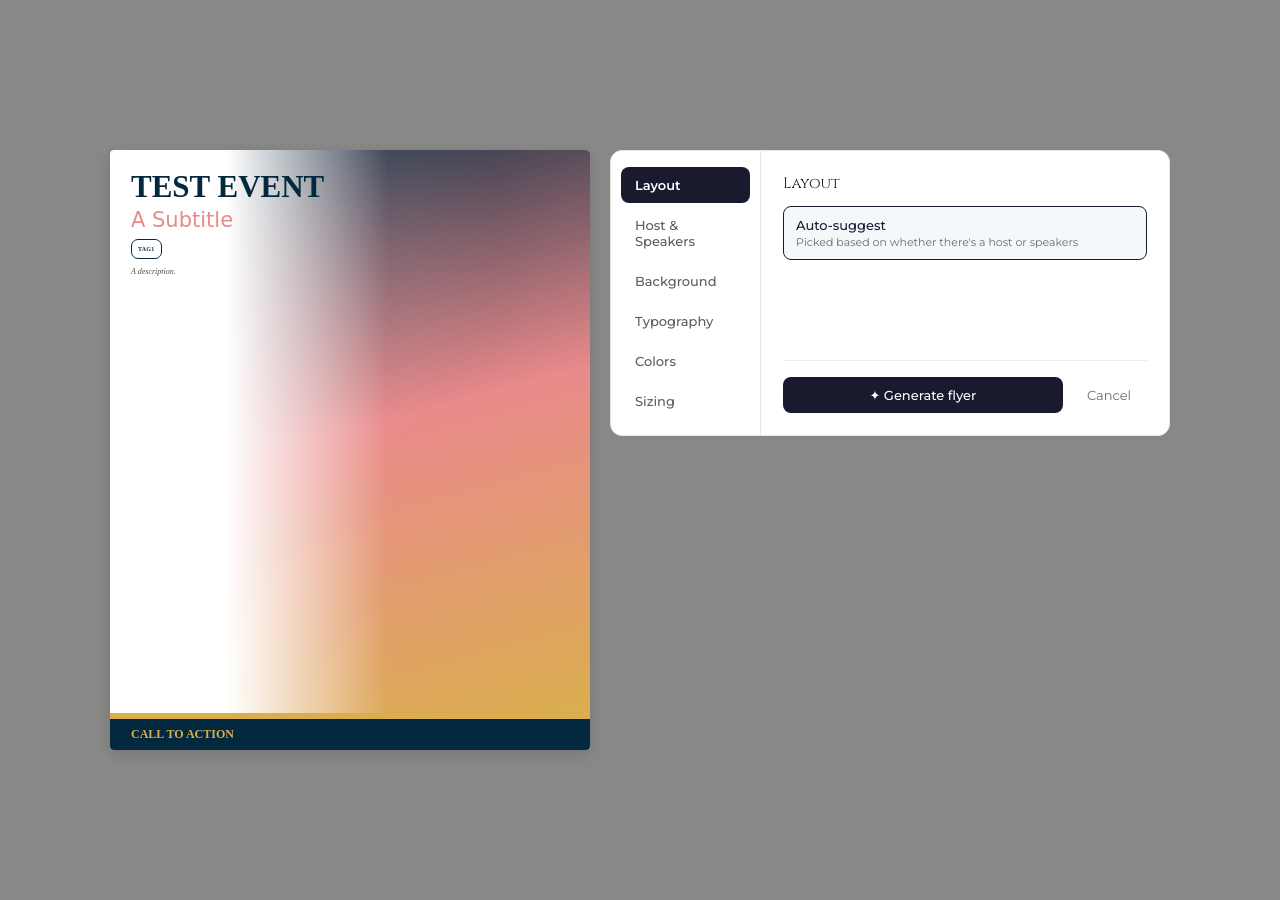
Test: shows a friendly message in Host & Speakers when the roster is empty
This screenshot has width=1280, height=900.
Click the button "Host & Speakers" at [686, 233], box top-left (621, 207), bottom-right (750, 259)
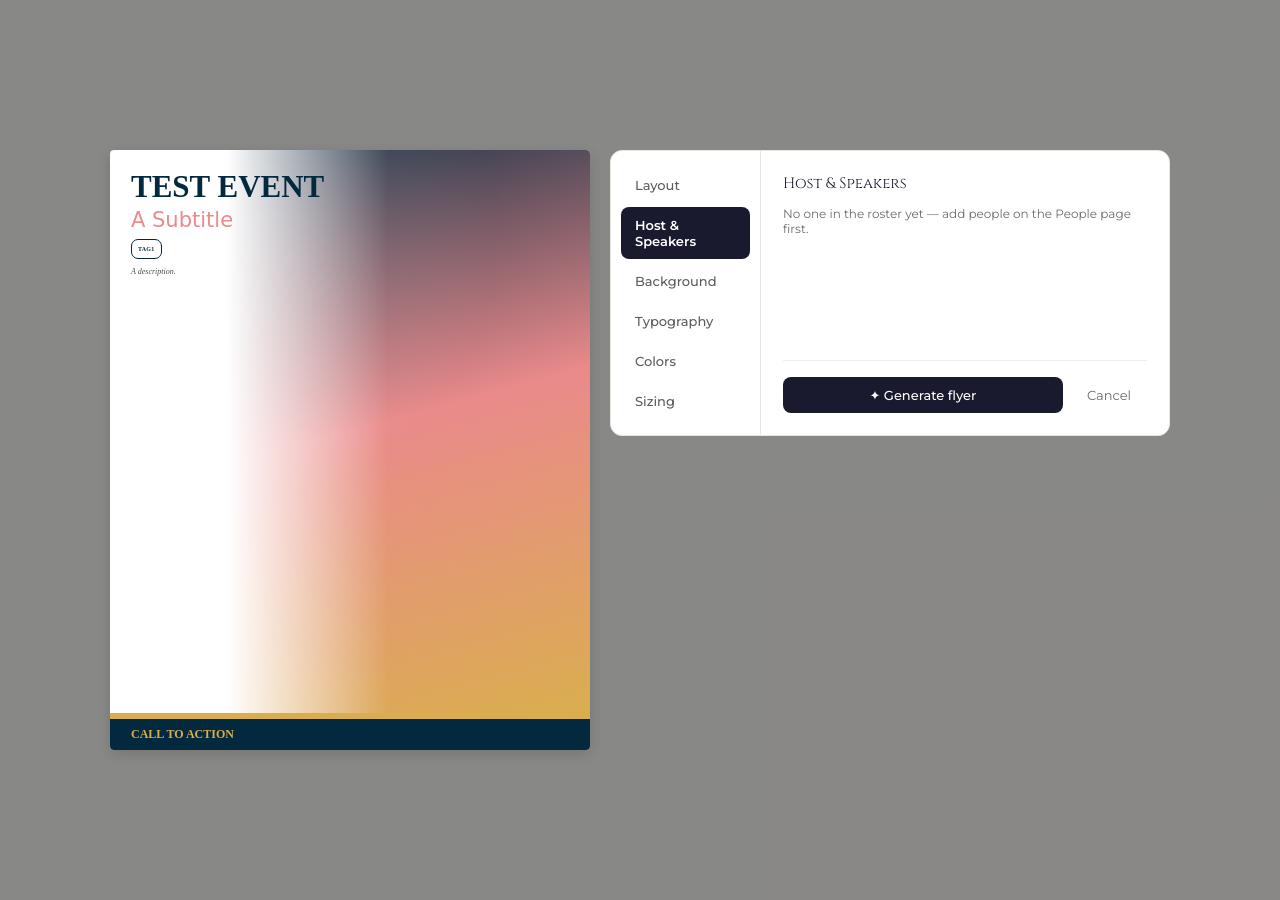
Expected: the text "No one in the roster yet" is shown, top-left (783, 206), bottom-right (1131, 236)
